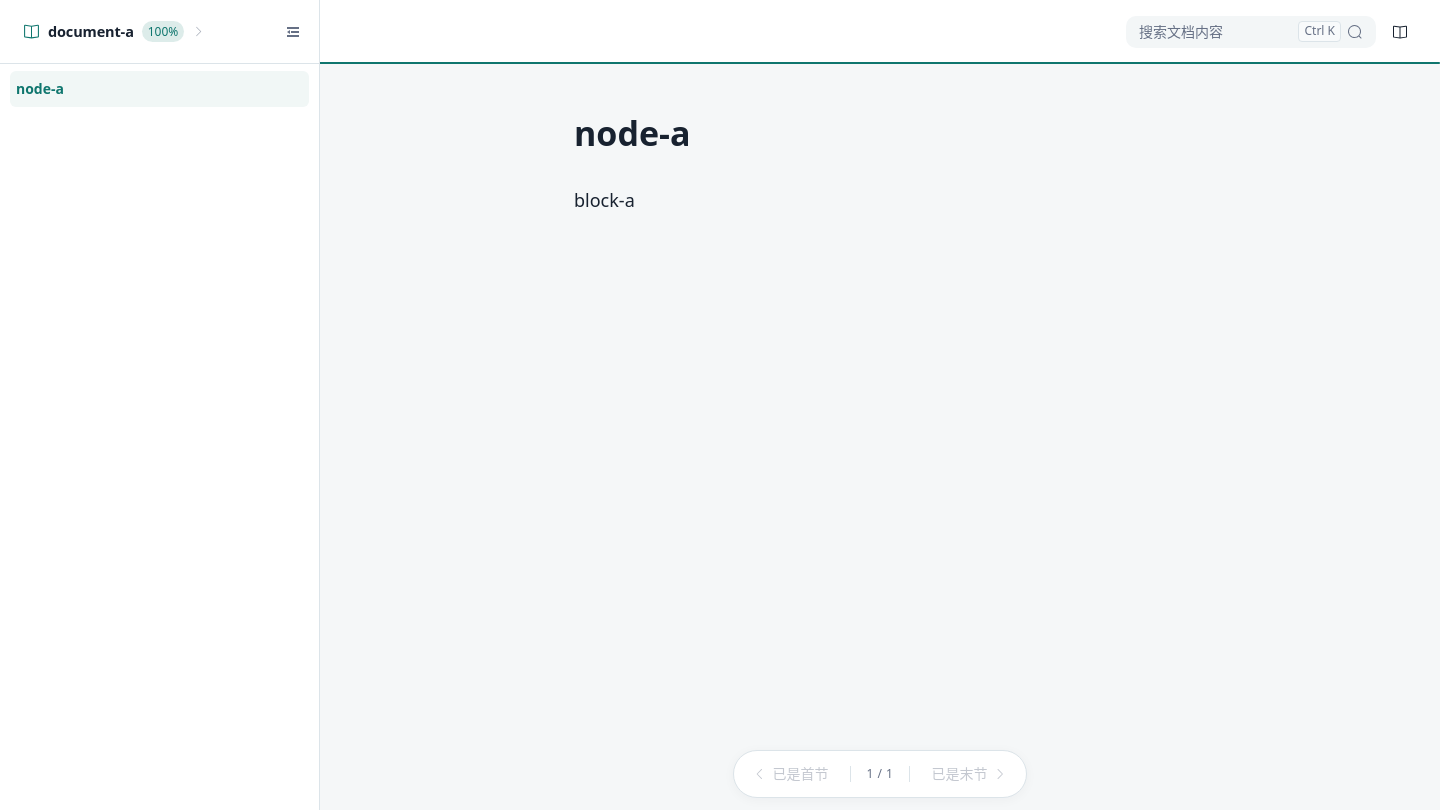
ReaderView request coordination › debounces search, requires two characters, and aborts stale requests
Click the button with class "reader-header-search-trigger": click(1251, 32) 1126,16 -> 1376,48
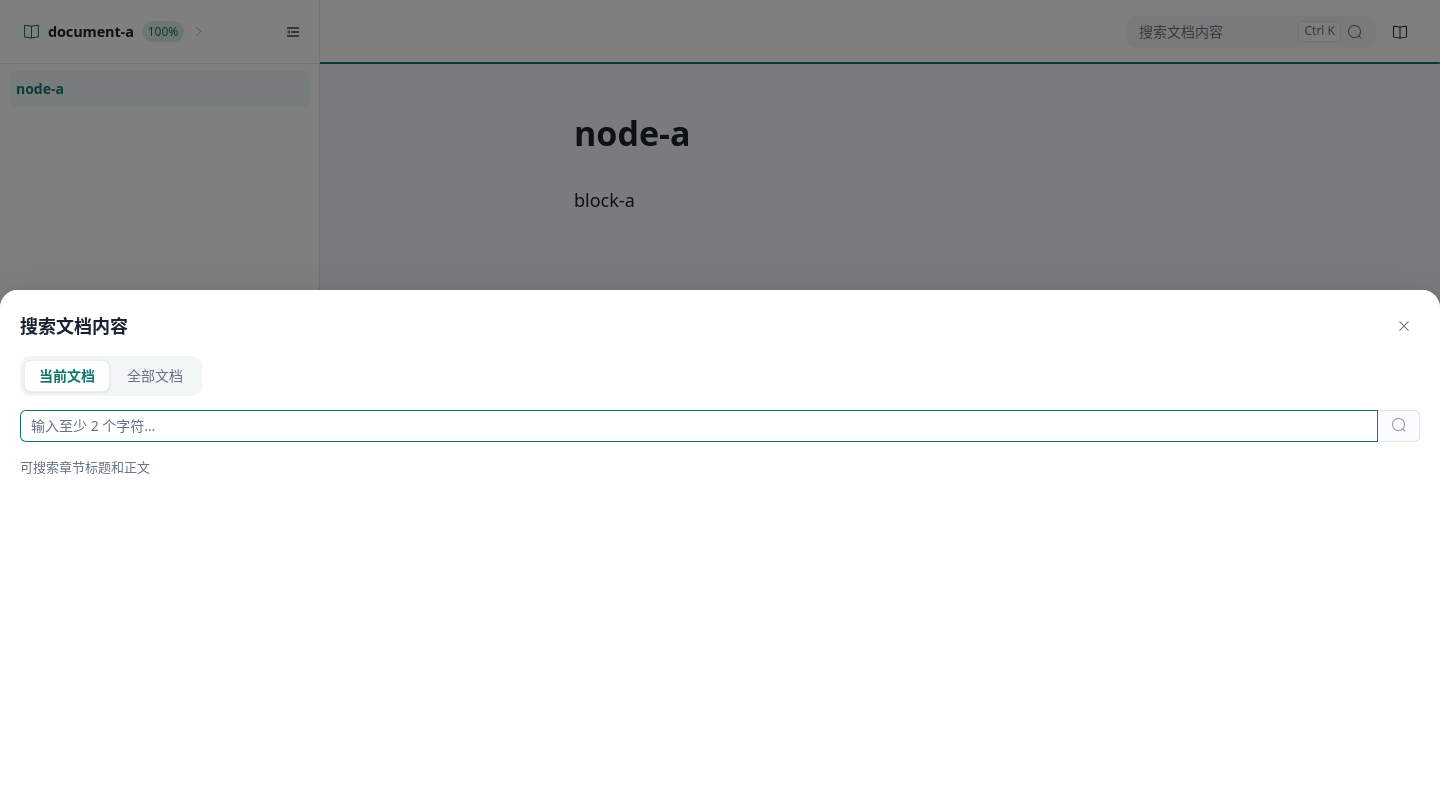
In the field named "reader-search": (699, 426) 31,411 -> 1367,441, type "H"
Wait 600 ms
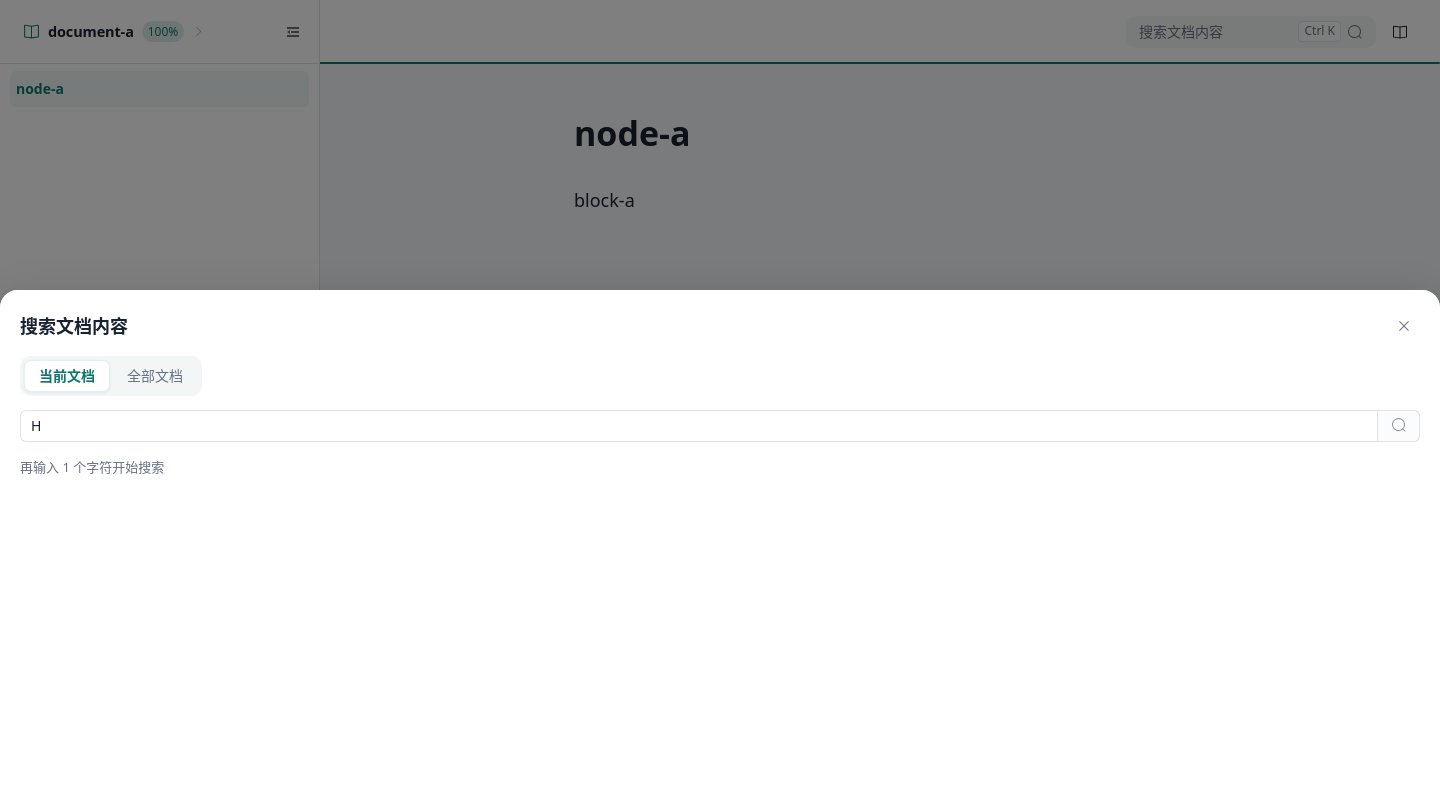
Replace the text in the field named "reader-search" with "Ha": (699, 426) 31,411 -> 1367,441
Wait 500 ms
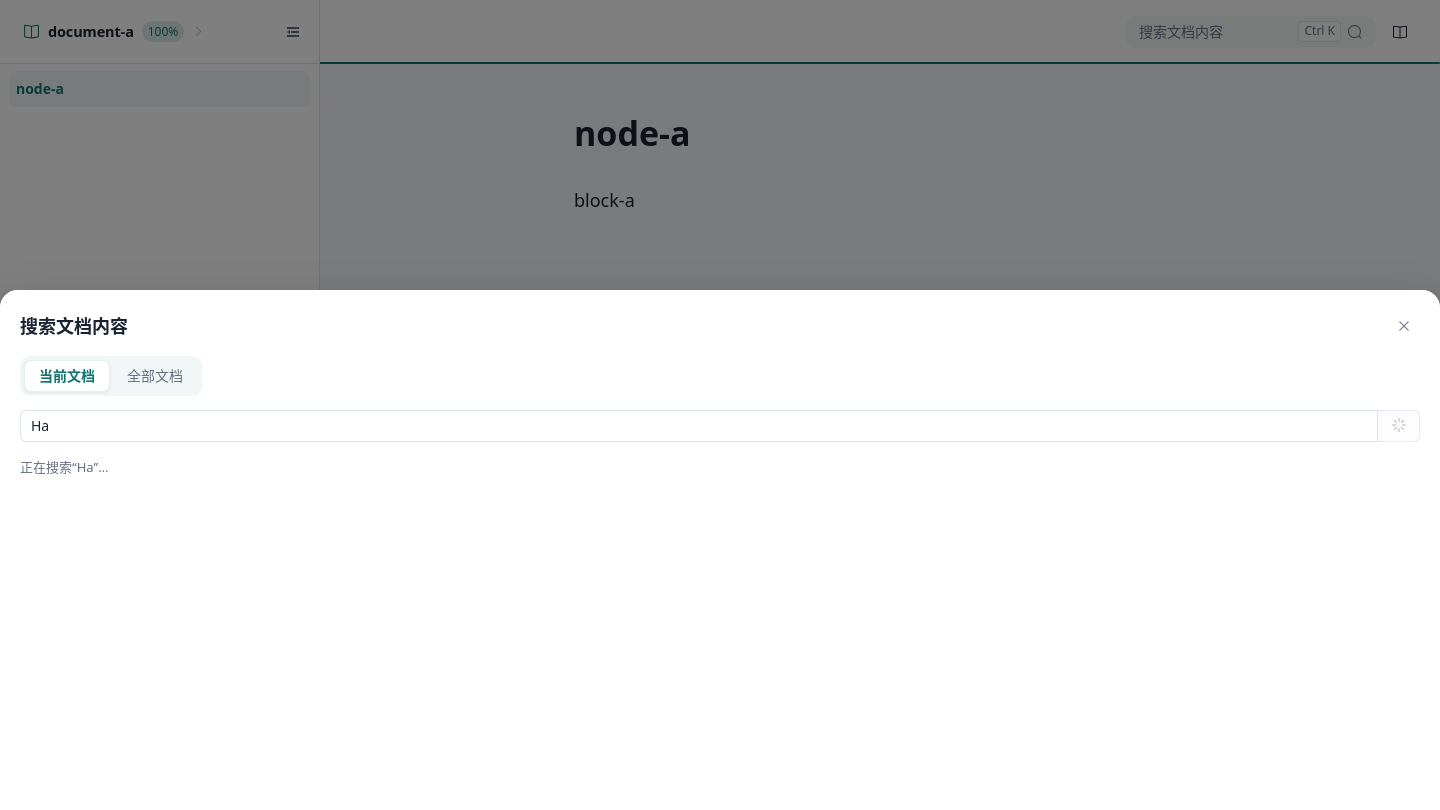
Replace the text in the field named "reader-search" with "Hash": (699, 426) 31,411 -> 1367,441
Wait 500 ms
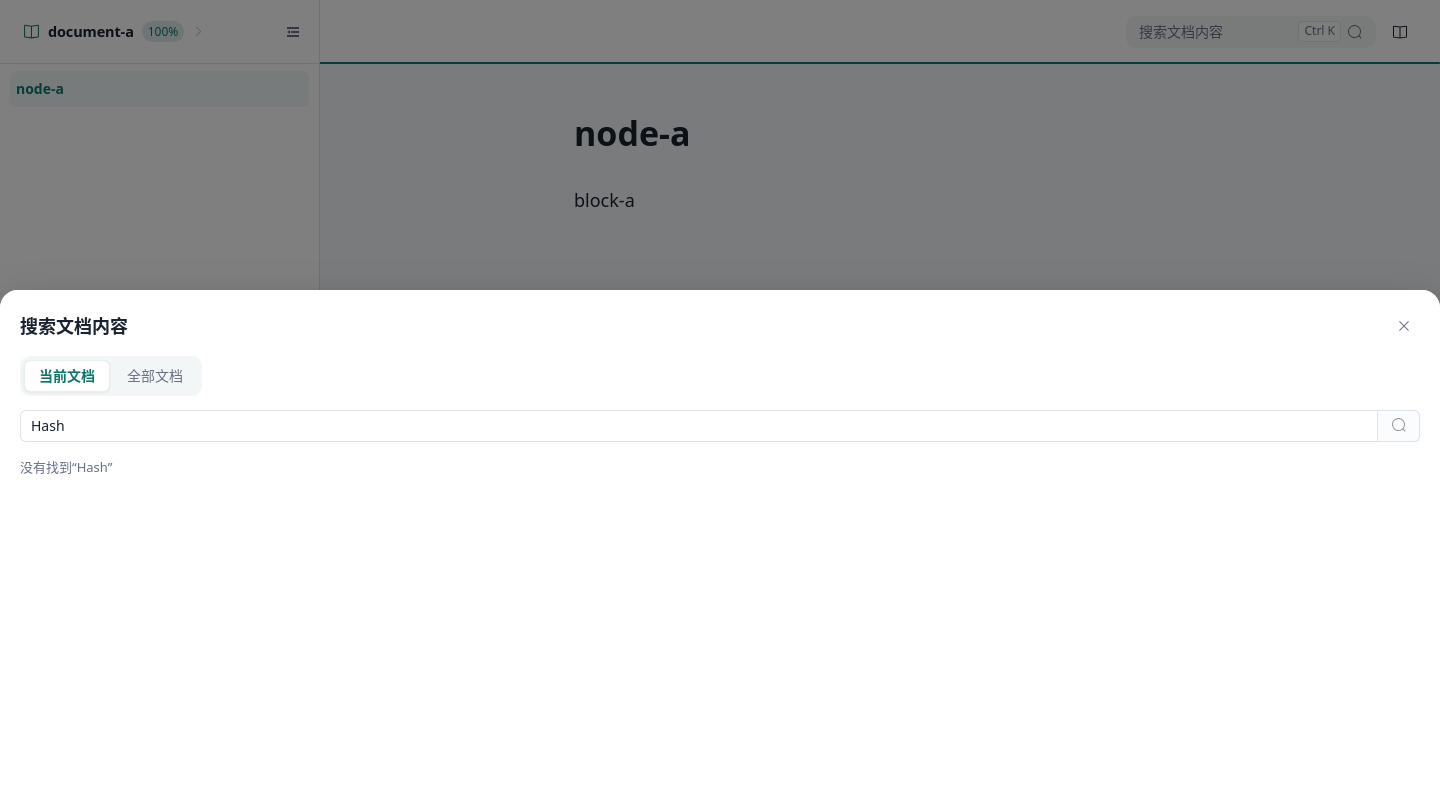
Result: the message with class "reader-search-feedback" shows "没有找到" at 20,458 -> 112,476
